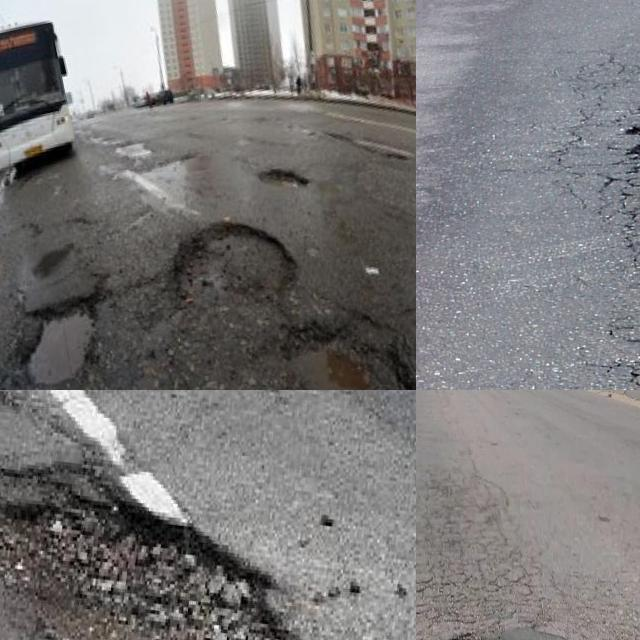Pothole: (0, 461, 297, 640), (174, 221, 298, 310), (14, 294, 102, 388), (281, 326, 370, 390), (257, 168, 312, 189), (116, 142, 152, 159)
